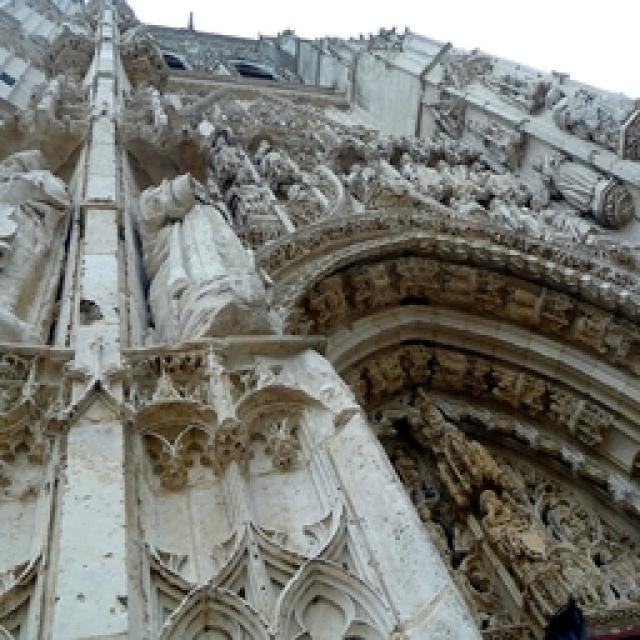Abbey: (270, 182, 640, 638)
